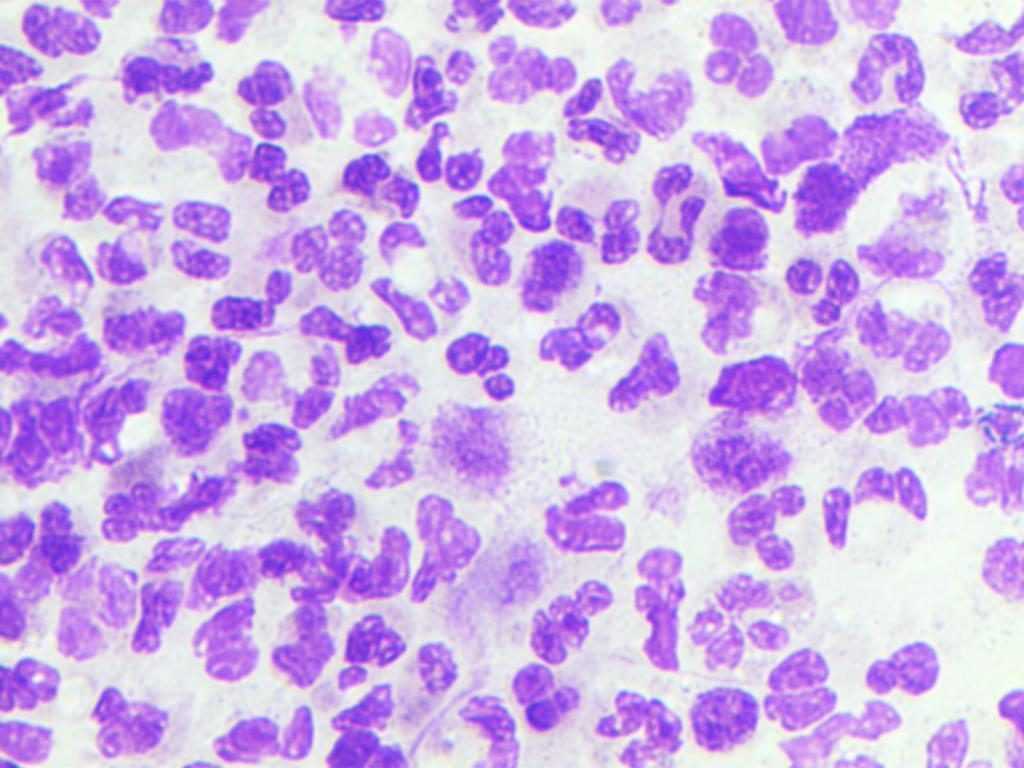neutrophil: (683, 570, 826, 677), (302, 23, 419, 153), (363, 213, 479, 339), (319, 369, 433, 493), (813, 458, 931, 576), (134, 90, 258, 199), (222, 330, 347, 431), (739, 75, 854, 179), (681, 403, 800, 501), (843, 276, 967, 369), (683, 111, 795, 213), (70, 363, 177, 469), (317, 504, 422, 609), (551, 156, 642, 276), (70, 675, 187, 768), (616, 545, 695, 681), (697, 4, 788, 120), (776, 689, 908, 768), (48, 555, 142, 665), (525, 294, 650, 375), (22, 131, 117, 235), (399, 495, 485, 609), (641, 150, 712, 288), (240, 520, 343, 614), (399, 688, 520, 768), (207, 690, 330, 768), (92, 449, 190, 546), (440, 183, 525, 294), (484, 119, 564, 236), (285, 203, 383, 298), (683, 270, 792, 354), (524, 569, 618, 665), (598, 331, 694, 424), (794, 340, 887, 436), (225, 56, 326, 144), (5, 490, 98, 585), (861, 375, 977, 451), (264, 593, 352, 693), (367, 640, 460, 734), (953, 225, 1024, 348), (322, 605, 423, 690), (590, 684, 692, 768), (531, 471, 638, 551), (603, 51, 698, 141), (555, 76, 648, 166), (721, 480, 813, 570), (756, 643, 845, 736), (189, 585, 267, 690), (476, 35, 588, 106), (110, 36, 219, 108), (435, 330, 530, 412), (940, 51, 1024, 140), (392, 44, 475, 133), (154, 203, 245, 284), (836, 33, 935, 106), (706, 349, 802, 424), (200, 265, 299, 336), (962, 413, 1024, 525), (407, 116, 493, 196), (97, 193, 167, 290), (2, 71, 100, 139), (20, 221, 98, 306), (783, 246, 860, 332), (239, 136, 322, 215), (333, 151, 434, 214), (515, 654, 592, 736), (859, 631, 949, 701), (93, 293, 189, 358), (685, 674, 762, 753), (230, 415, 308, 491), (696, 208, 778, 280), (964, 145, 1024, 229), (173, 333, 240, 396), (977, 526, 1024, 615)
